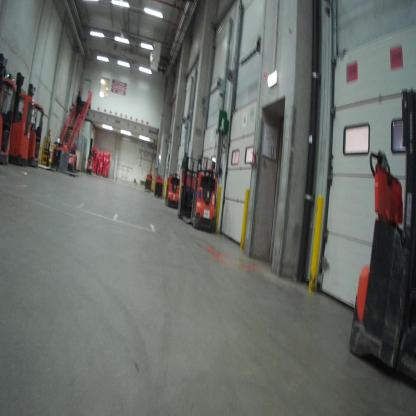forklift: (7, 67, 30, 168), (0, 47, 19, 168), (25, 80, 45, 171)
pallet_truck: (346, 85, 414, 392), (176, 149, 221, 230), (49, 137, 74, 178), (165, 171, 180, 212), (66, 147, 79, 178), (152, 171, 165, 201), (85, 153, 98, 178), (142, 168, 154, 195)
